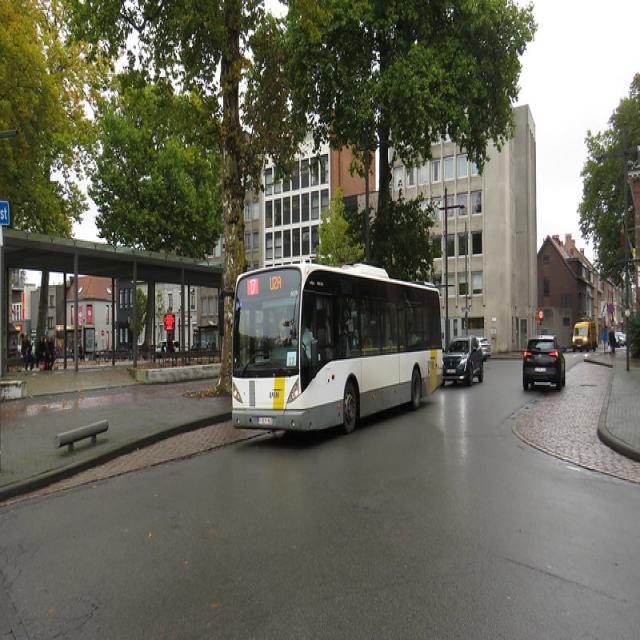bus-number: (247, 278, 259, 296)
